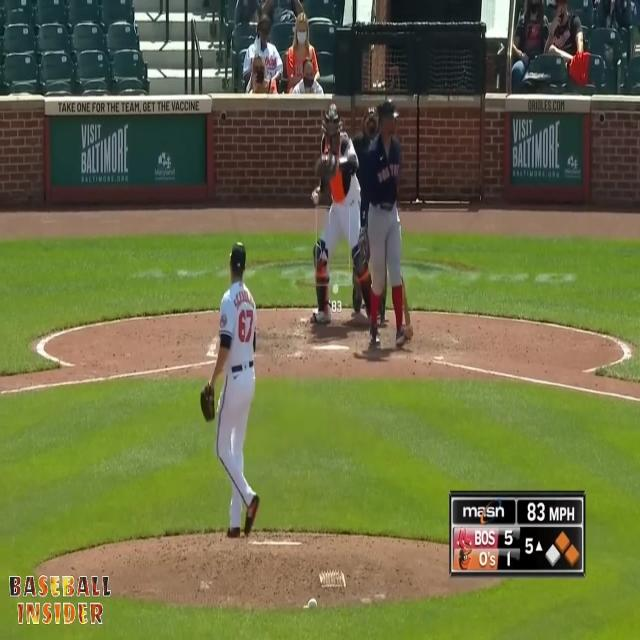baseball: (312, 192, 319, 204)
